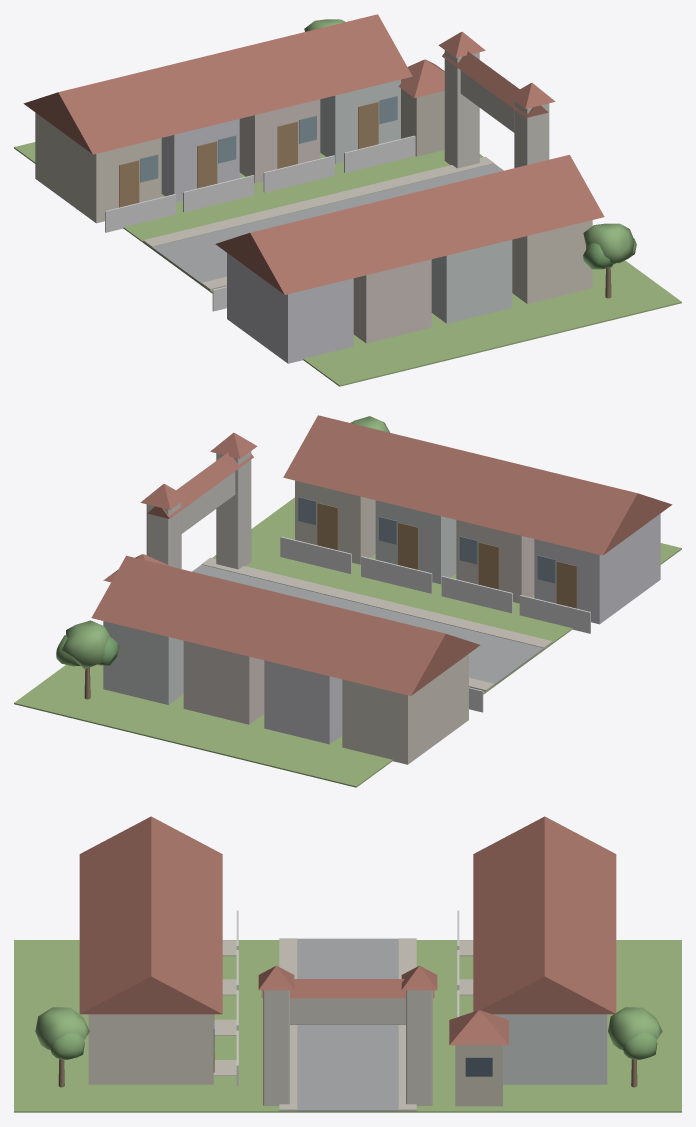
The model's file is lm_griya.glb.
3 views of the same model, one above another, from view 1: azimuth 30°, elevation 25°; view 2: azimuth 150°, elevation 25°; view 3: azimuth 270°, elevation 25° (orthographic). The views are drawn at different scales.
Parts seen in each view (by area): view 1: main; view 2: main; view 3: main.
Part boxes in pixels (box(x1,y1,x2,y2)): main: box(14, 14, 681, 386); main: box(14, 415, 681, 787); main: box(14, 816, 681, 1112).
Bounding box in the file's own units: 14.5 × 5 × 22.4.
